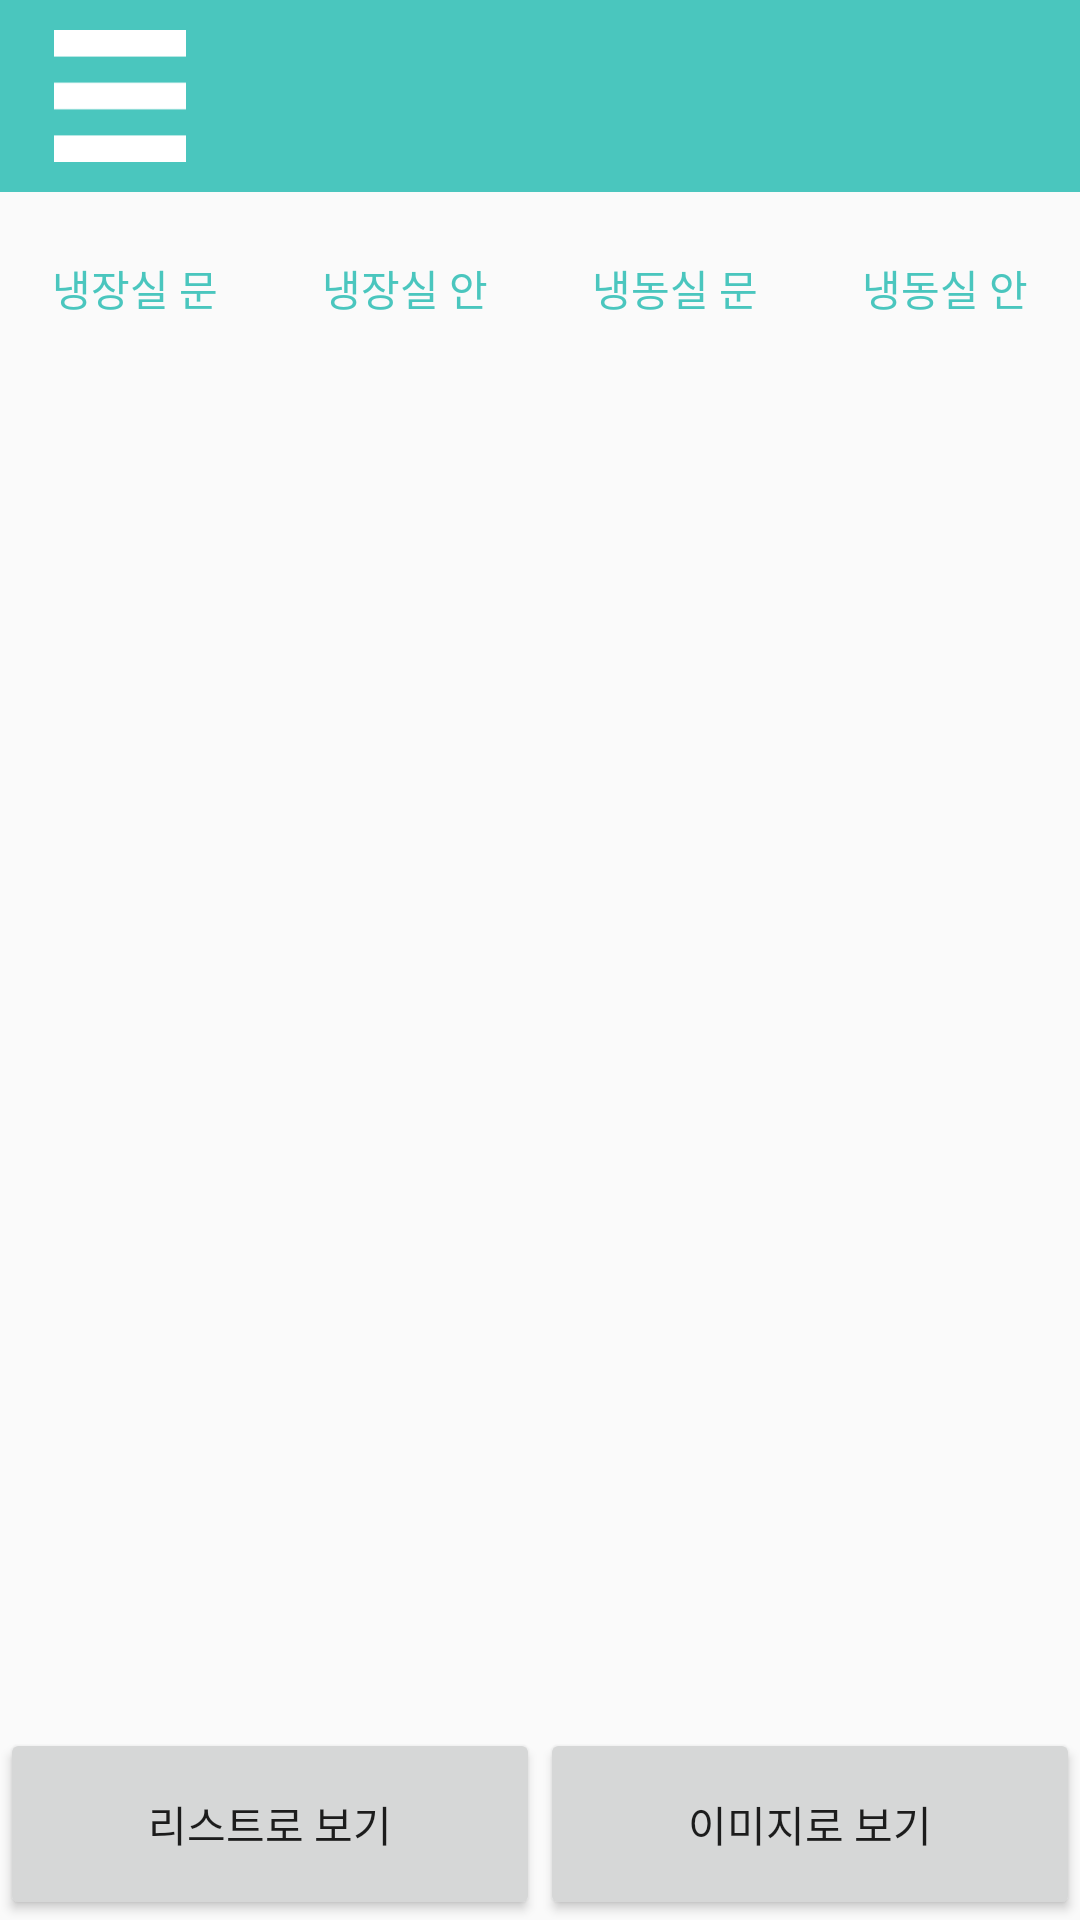

Icon bounding boxes for this 1080×1920 phone screenshot, format (x1, y1, x2, y2):
menu: (54, 30, 186, 162)
